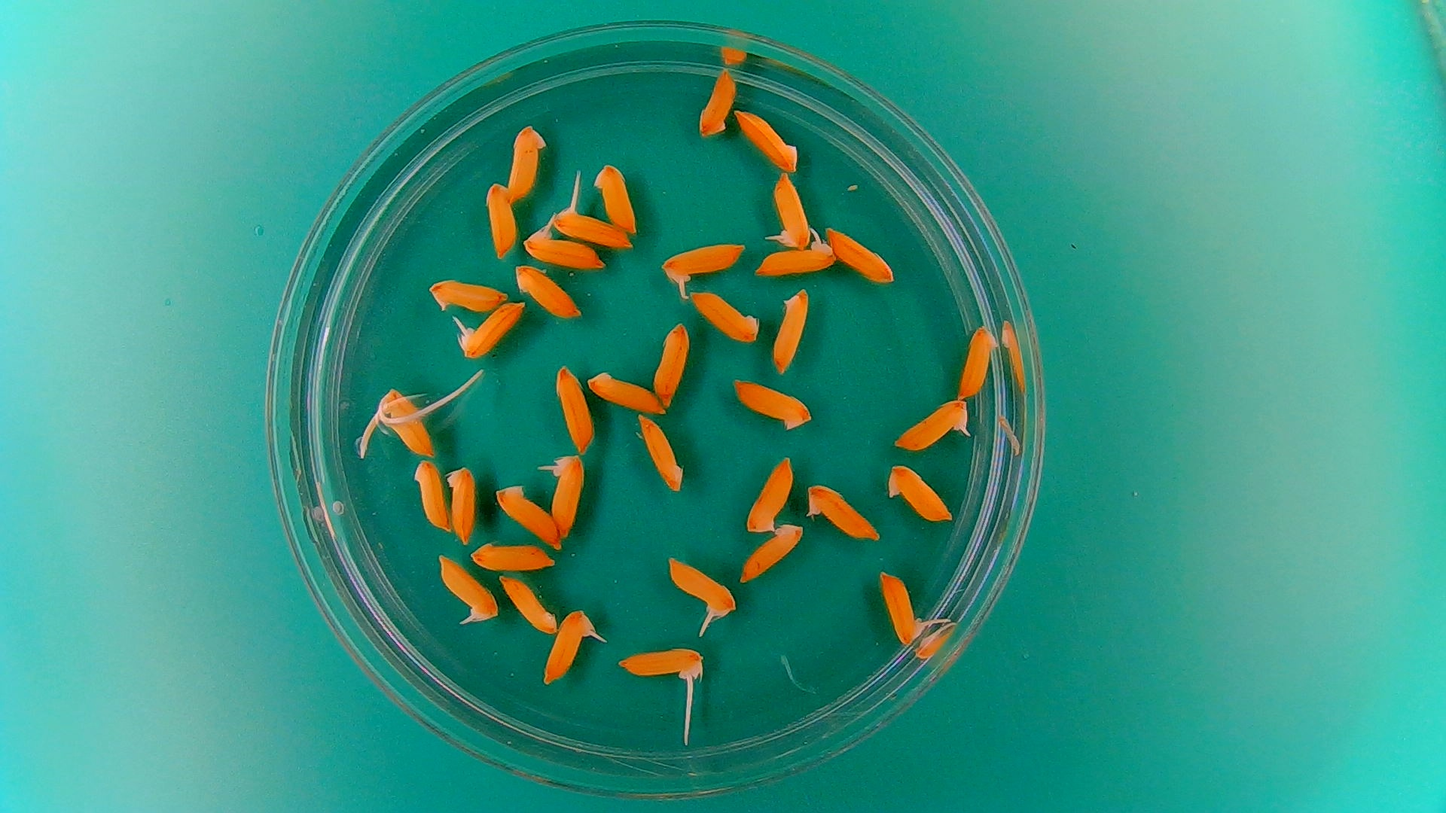no: (729, 374, 816, 431), (731, 105, 801, 174), (493, 480, 563, 549), (803, 481, 881, 541), (737, 519, 807, 585), (635, 411, 688, 497), (687, 287, 765, 345), (824, 225, 898, 286), (743, 452, 796, 536), (885, 461, 954, 525), (589, 158, 641, 237), (584, 367, 668, 415), (496, 574, 560, 635), (769, 285, 812, 375), (554, 361, 596, 452), (503, 120, 548, 202), (515, 265, 584, 318), (651, 319, 692, 407), (958, 320, 1001, 399), (426, 273, 508, 312), (469, 539, 557, 574), (410, 456, 450, 532), (697, 67, 737, 139), (483, 179, 518, 259), (446, 461, 478, 544)
yes: (663, 553, 735, 620), (891, 394, 974, 452), (435, 553, 499, 626), (457, 298, 528, 360), (541, 610, 595, 687), (378, 388, 438, 457), (543, 452, 588, 538), (520, 226, 607, 270), (660, 238, 746, 282), (767, 171, 813, 251), (875, 574, 926, 645), (756, 233, 834, 278), (554, 203, 633, 247), (622, 644, 702, 687)
